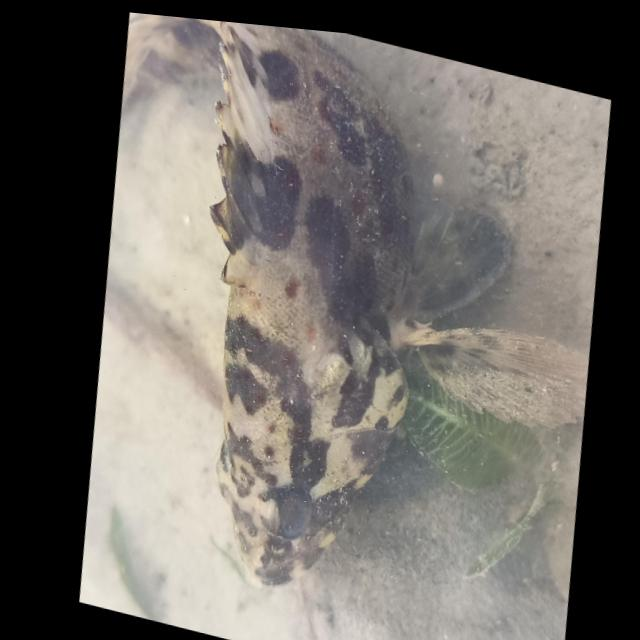Groupers: (42, 4, 565, 640)
